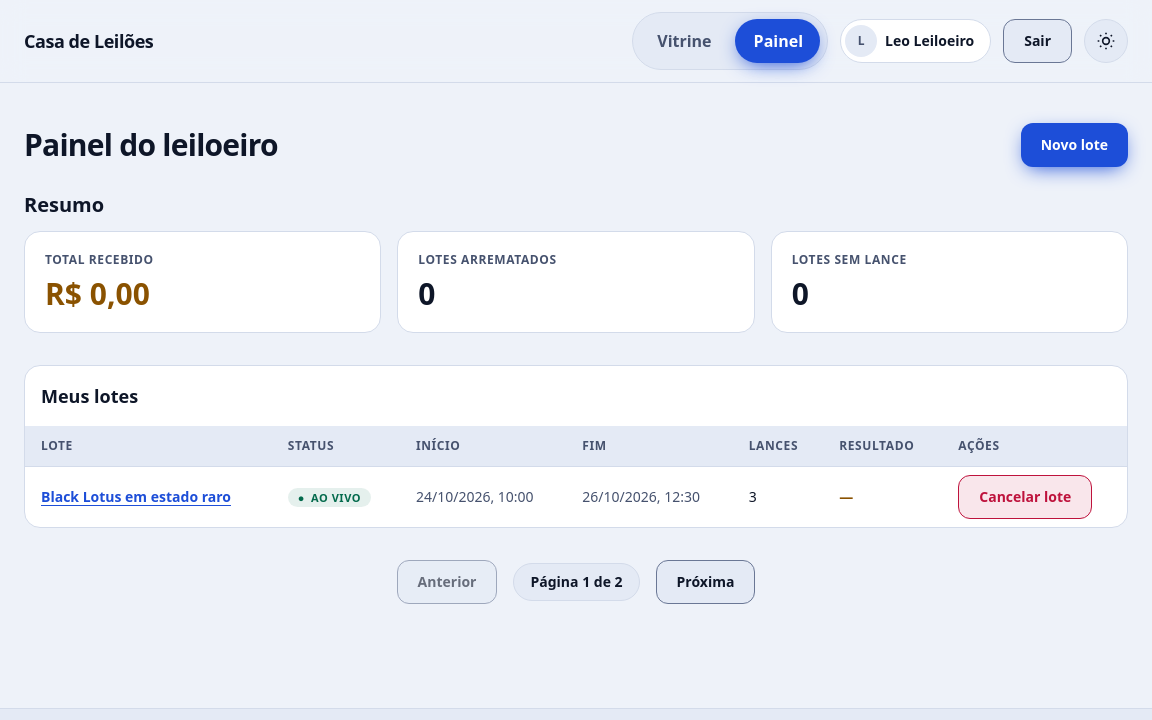
Scenario: /painel › pagina pela URL e consulta a página pedida
expect the table "Meus lotes" is shown: met, box [25,366,1127,527]
expect the text "Página 1 de 2" is shown: met, box [513,563,640,601]
Click the button "Próxima". click: (706, 582)
box: [656,560,755,604]
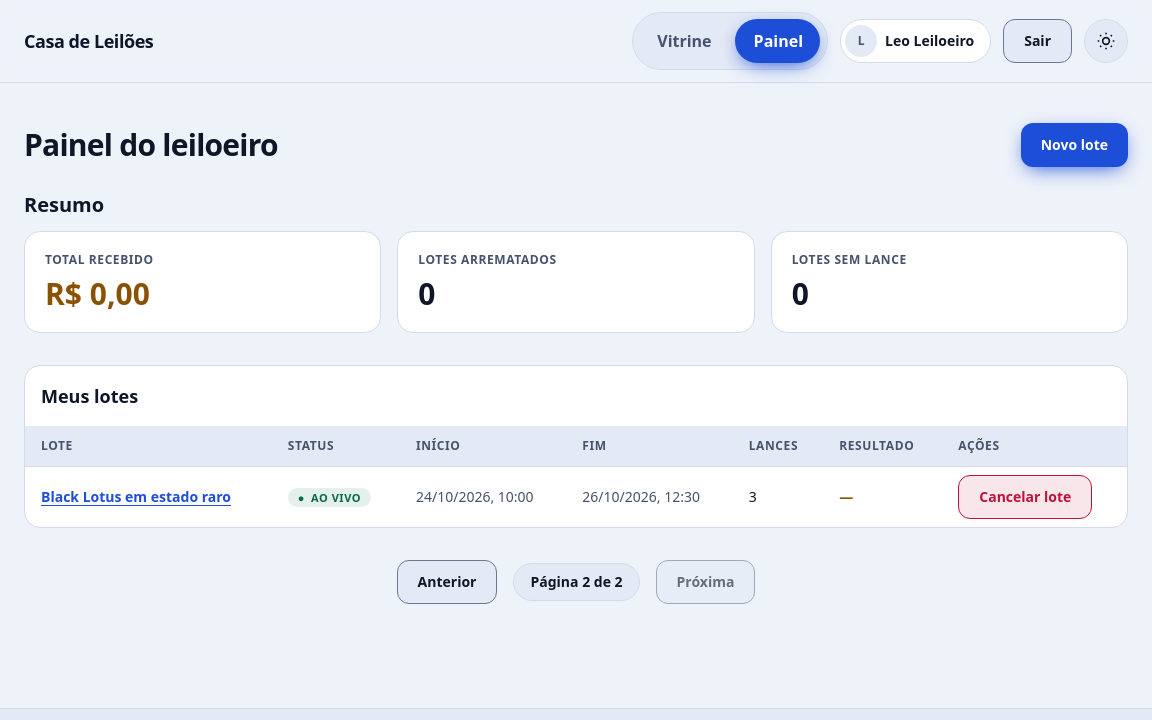
expect the text "Página 2 de 2" is shown: met, box [513,563,640,601]
